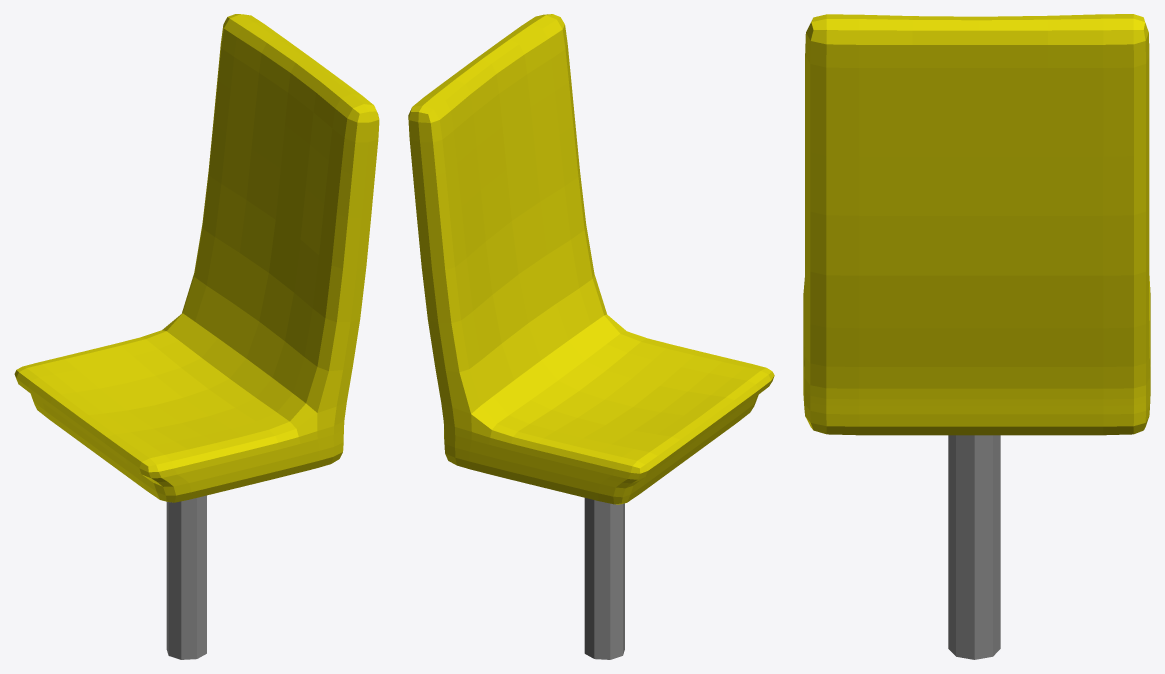
File: platform-chair.fbx
3 renders of one model, left to right at view 1: azimuth 30°, elevation 25°; view 2: azimuth 150°, elevation 25°; view 3: azimuth 270°, elevation 25°, orthographic. The views are drawn at different scales.
Parts seen in each view (by area): view 1: Chair; view 2: Chair; view 3: Chair.
Boxes of the visible parts, box(x1,y1,x2,y2) form: Chair: box(14, 14, 379, 659); Chair: box(408, 14, 774, 659); Chair: box(803, 14, 1150, 659).
Bounding box in the file's own units: 45.94 × 103 × 46.05.
